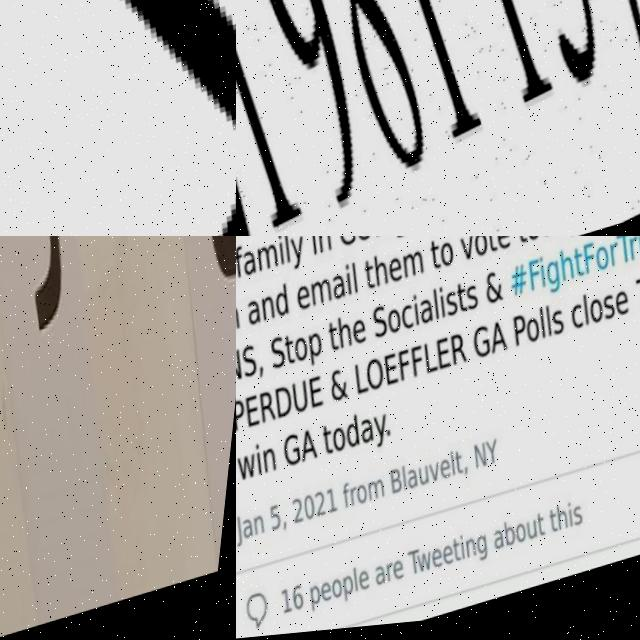1: (300, 0, 531, 187), (370, 0, 602, 158), (236, 0, 350, 236), (277, 506, 294, 535)
2: (236, 0, 308, 236), (301, 586, 318, 615)
5: (409, 0, 640, 133), (0, 236, 102, 360)
8: (242, 0, 484, 212)
9: (236, 0, 429, 236)
A: (304, 429, 329, 466), (493, 326, 518, 361), (248, 299, 269, 330), (365, 421, 386, 452), (245, 250, 264, 279), (423, 302, 442, 331), (335, 275, 353, 305), (413, 471, 429, 496), (383, 568, 399, 593), (501, 535, 517, 560), (250, 518, 266, 542), (555, 236, 574, 242)
B: (512, 525, 530, 555), (397, 472, 414, 499)
C: (574, 308, 595, 341), (404, 307, 423, 337)
D: (279, 386, 303, 422), (276, 283, 298, 321), (350, 417, 372, 454), (538, 236, 560, 245)
E: (440, 340, 462, 378), (387, 356, 408, 392), (313, 377, 333, 413), (250, 396, 271, 429), (299, 286, 319, 315), (618, 299, 638, 328), (391, 260, 410, 289), (356, 322, 375, 351), (498, 236, 517, 258), (440, 552, 456, 577), (446, 463, 462, 486), (451, 550, 467, 573), (402, 564, 418, 587), (330, 584, 346, 607), (368, 573, 384, 596), (357, 236, 376, 247)
F: (530, 264, 550, 300), (414, 350, 435, 383), (585, 249, 604, 284), (403, 353, 422, 387), (236, 245, 252, 280), (348, 485, 363, 513)
G: (475, 329, 501, 368), (288, 434, 313, 471), (548, 265, 570, 303), (485, 539, 502, 569), (337, 236, 363, 252), (392, 236, 414, 244)
H: (375, 256, 397, 294), (340, 316, 362, 354), (562, 256, 581, 290), (564, 511, 581, 540)
I: (261, 443, 274, 480), (416, 298, 429, 333), (278, 236, 291, 269), (441, 291, 454, 324), (541, 264, 554, 296), (347, 268, 359, 300), (575, 510, 586, 536), (311, 236, 323, 259), (469, 540, 479, 567)
J: (241, 517, 258, 551)
L: (358, 364, 379, 400), (428, 345, 449, 380), (548, 310, 562, 348), (585, 300, 599, 338), (543, 314, 556, 349), (354, 266, 366, 299), (436, 293, 448, 326), (284, 236, 297, 266), (457, 456, 467, 483), (362, 571, 372, 597), (409, 471, 419, 495)
M: (258, 245, 286, 275), (313, 280, 340, 310), (404, 255, 431, 284), (374, 482, 396, 506), (236, 305, 248, 335)
N: (269, 448, 288, 478), (480, 448, 499, 476), (236, 349, 251, 384), (263, 297, 282, 324), (318, 236, 338, 257), (261, 515, 277, 538), (474, 542, 490, 565)
O: (369, 359, 395, 397), (442, 245, 461, 275), (475, 236, 495, 264), (390, 311, 409, 340), (529, 324, 549, 351), (592, 306, 612, 333), (298, 338, 317, 366), (597, 254, 616, 280), (338, 430, 356, 457), (363, 487, 379, 510), (523, 530, 539, 553), (341, 582, 357, 604), (528, 236, 547, 248), (236, 462, 242, 489), (371, 236, 390, 242)
P: (311, 333, 333, 370), (517, 320, 537, 355), (236, 400, 256, 433), (319, 587, 337, 616), (352, 577, 369, 606)
R: (264, 391, 287, 426), (455, 338, 477, 373), (613, 251, 628, 276), (358, 490, 370, 511), (396, 567, 407, 588), (631, 244, 640, 269)
S: (374, 306, 396, 344), (273, 337, 295, 374), (246, 346, 267, 381), (555, 315, 574, 345), (470, 290, 487, 317), (449, 296, 466, 323), (606, 302, 623, 329), (582, 514, 596, 536)
T: (618, 239, 640, 274), (575, 253, 594, 287), (327, 427, 345, 461), (459, 288, 476, 322), (431, 244, 449, 276), (416, 554, 435, 581), (366, 262, 382, 294), (288, 335, 304, 367), (332, 325, 348, 357), (486, 236, 505, 260), (460, 456, 475, 482), (461, 542, 476, 568), (544, 519, 559, 545), (556, 516, 571, 541), (517, 236, 534, 251)
U: (295, 382, 320, 419), (536, 526, 550, 548), (427, 470, 440, 492)
V: (463, 241, 482, 268), (436, 467, 452, 489)
W: (244, 456, 267, 484), (425, 556, 446, 580)
X: (17, 0, 236, 236)
Y: (291, 236, 313, 273), (378, 417, 400, 454), (492, 445, 511, 472), (568, 236, 590, 247)
